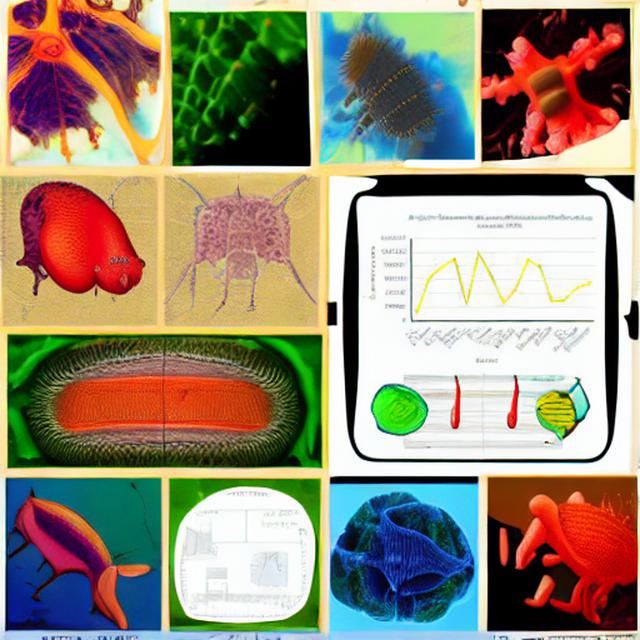Graph: (366, 211, 600, 366), (241, 548, 300, 589)
